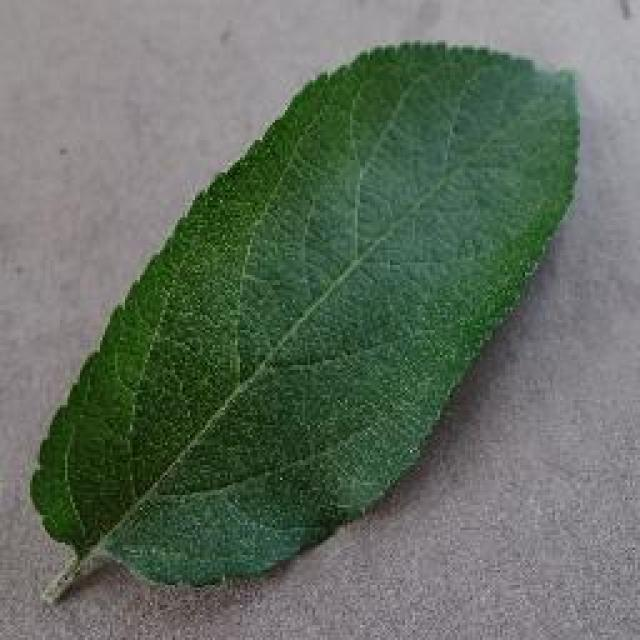apple healthy: (28, 35, 582, 605)
